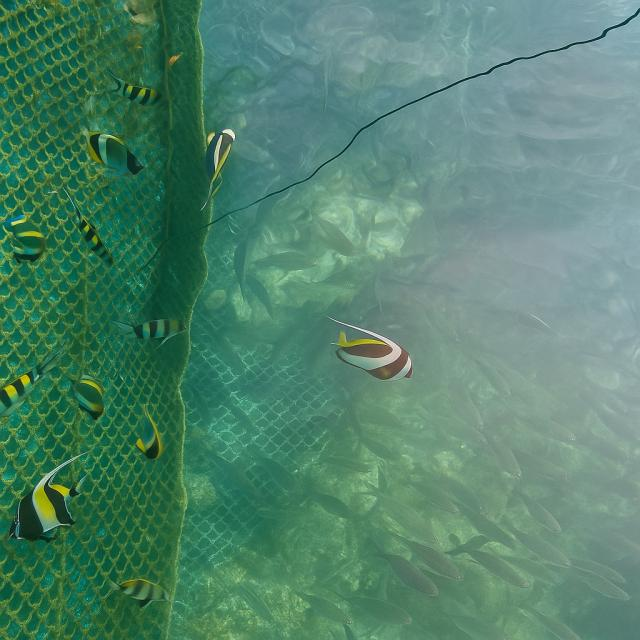ikan: (6, 450, 90, 543), (325, 315, 414, 383), (0, 350, 64, 419), (62, 187, 114, 267), (80, 126, 144, 176), (200, 127, 236, 211), (308, 208, 358, 258), (110, 317, 188, 349), (2, 213, 48, 265), (61, 369, 106, 420), (100, 576, 169, 609), (105, 67, 162, 106), (134, 403, 163, 460), (248, 250, 318, 270)
